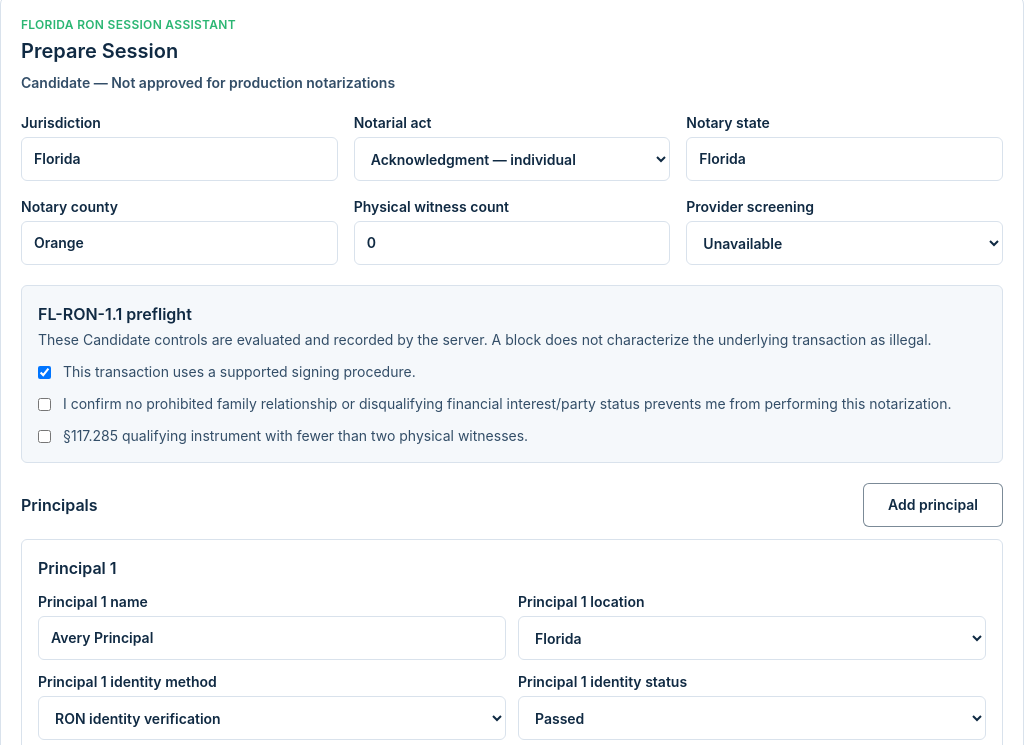
Test: AdminFloridaRonSessionAssistant › uses the server-refreshed outside-Florida route after the principal location is changed to Georgia
Step 1. Select "Georgia / outside Florida" in the dropdown labelled "Principal 1 location" → (752, 638), box [518,616,986,660]
(page scrolled)
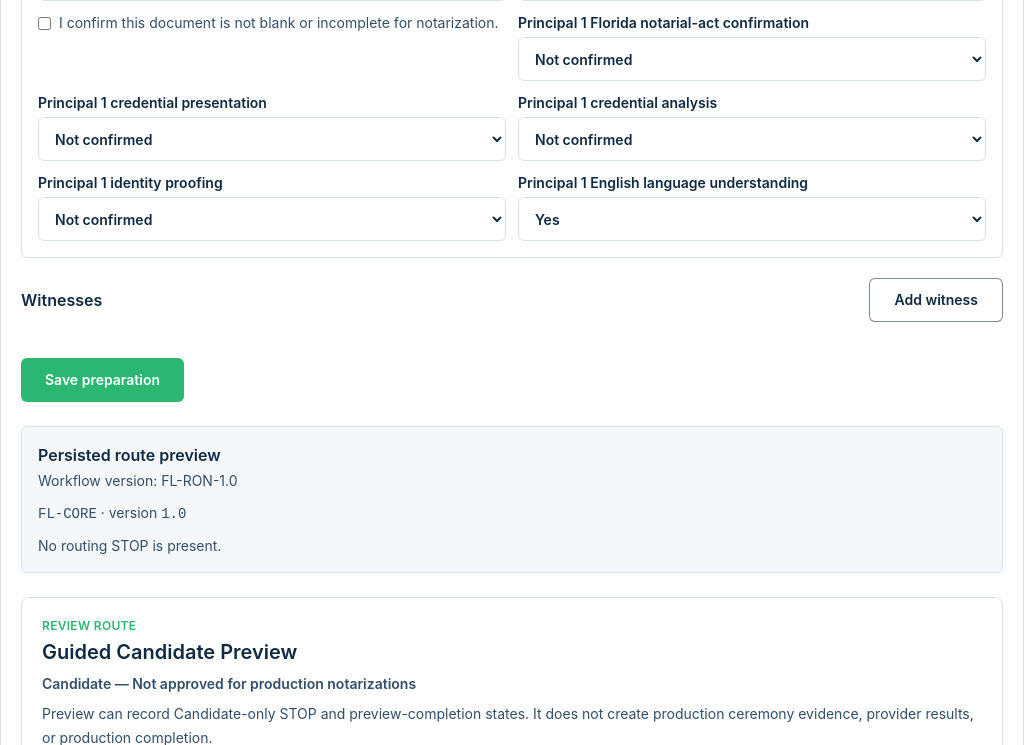
Step 2. Click the button "Save preparation" → (102, 380), box [21,358,184,402]
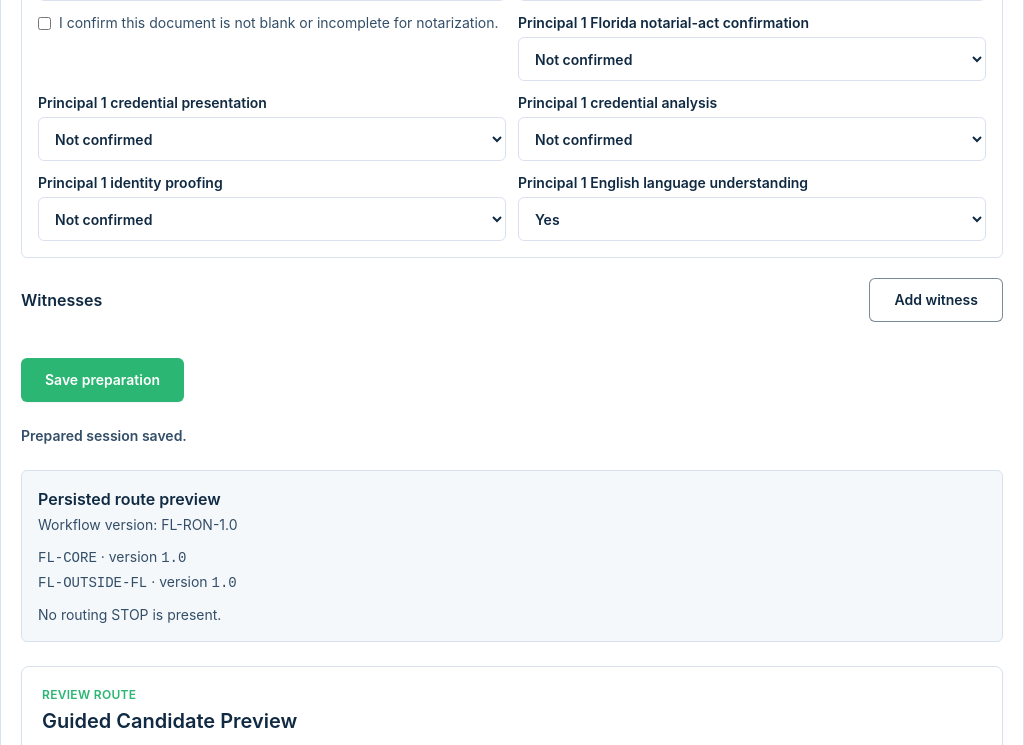
expect the text "FL-OUTSIDE-FL" is shown: met, box [38,575,147,591]
